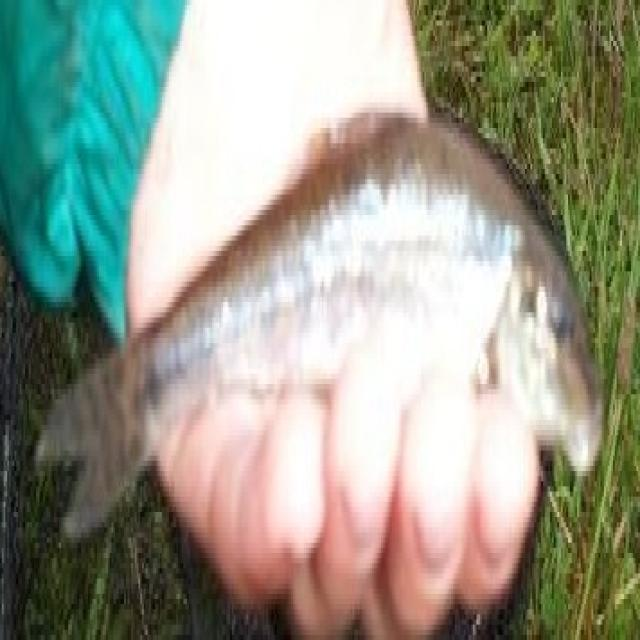Goby: (16, 36, 612, 566)
